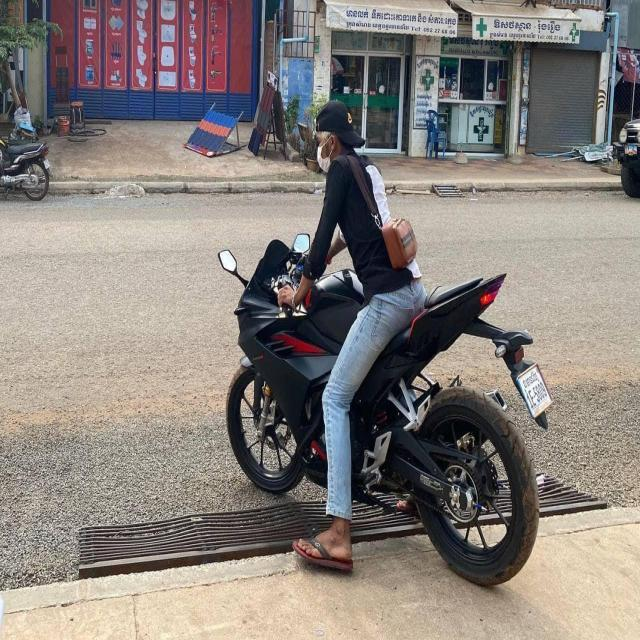Oudor_Meanchey: (523, 371, 538, 388)
